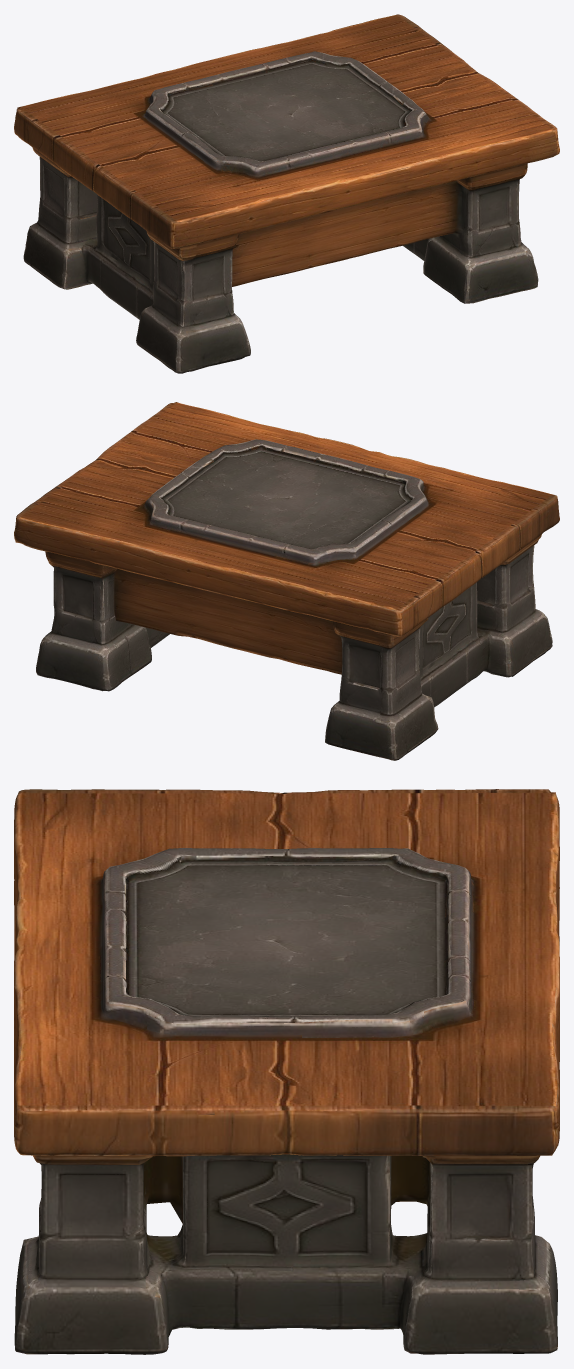
File: table.glb
3 renders of one model, top to bottom at view 1: azimuth 30°, elevation 25°; view 2: azimuth 150°, elevation 25°; view 3: azimuth 270°, elevation 25°, orthographic. The views are drawn at different scales.
Parts seen in each view (by area): view 1: mesh_node; view 2: mesh_node; view 3: mesh_node.
Part boxes in pixels (left/top/right/bottom): mesh_node: left=14, top=14, right=559, bottom=373; mesh_node: left=14, top=402, right=559, bottom=760; mesh_node: left=14, top=789, right=559, bottom=1354.
Size of the model in its own units: 1.9 by 0.7598 by 1.35.
1 material, 1 textured.
